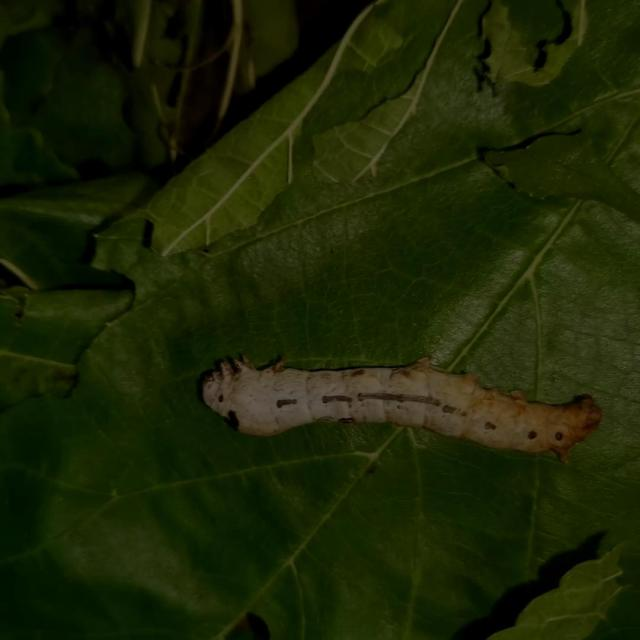Grasserie: (199, 329, 613, 473)
